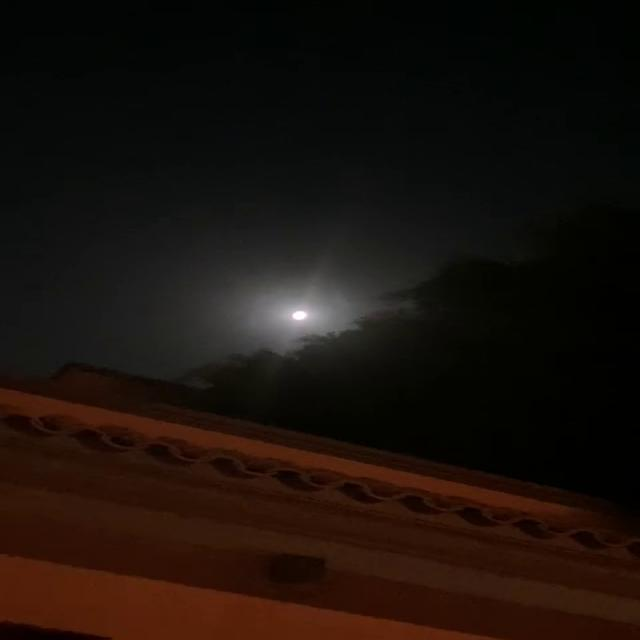moon: (273, 307, 328, 334)
